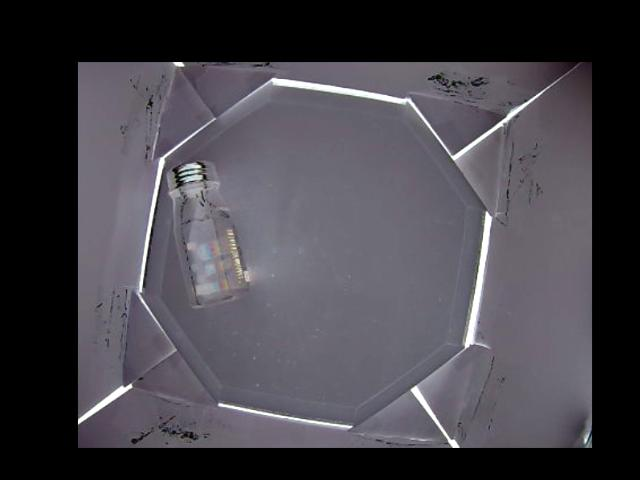Bottle: (165, 160, 252, 308)
